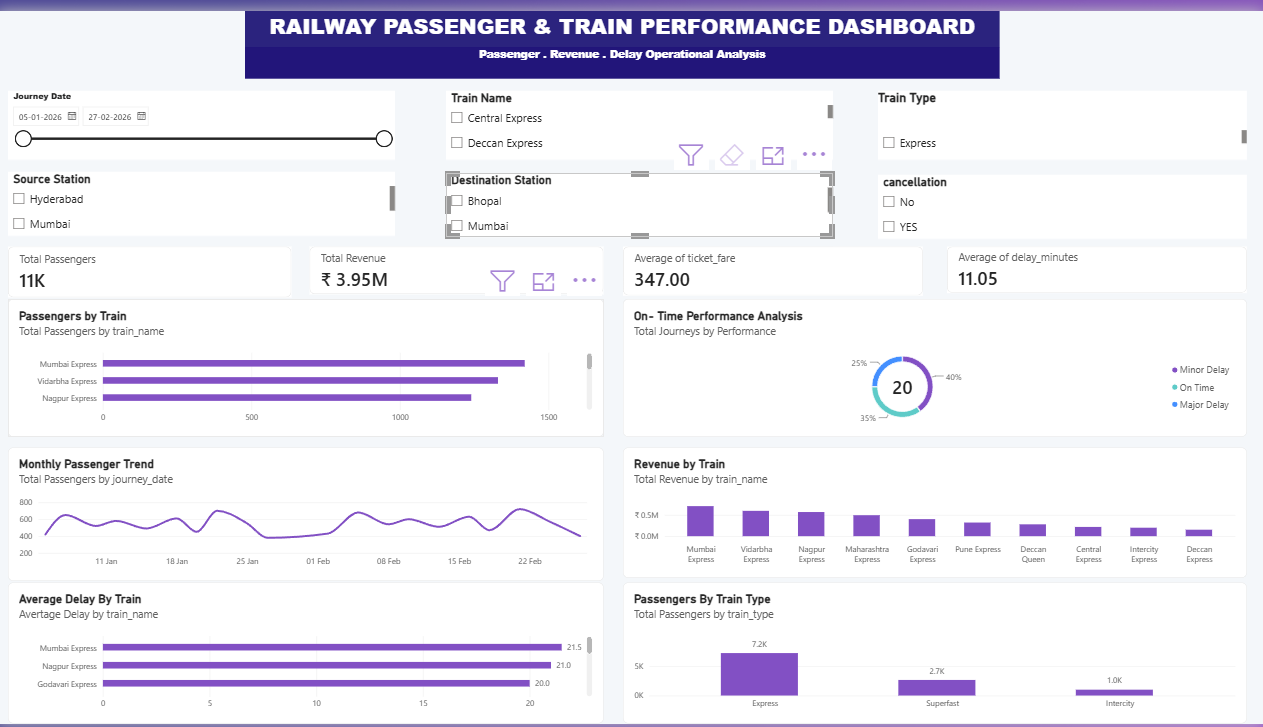

The page's visual inventory and layout, read from the dashboard file:
{"tool":"powerbi","page":{"name":"Page 1","canvas":[1920,1080],"ordinal":0},"visuals":[{"type":"cardVisual","fields":{"Data":["railway_analysis railway_data.Total Passengers"]},"box":[18.2,356.6,429.3,77.2],"z":1},{"type":"cardVisual","fields":{"Data":["Avg(railway_analysis railway_data.ticket_fare)"]},"box":[949.4,356.6,454.3,75],"z":2},{"type":"cardVisual","fields":{"Data":["Avg(railway_analysis railway_data.delay_minutes)"]},"box":[1440,356.6,454.3,70.4],"z":3},{"type":"cardVisual","fields":{"Data":["railway_analysis railway_data.Total Revenue"]},"box":[474.7,356.6,445.2,72.7],"z":4},{"type":"clusteredBarChart","title":"Passengers by Train","fields":{"Category":["railway_analysis railway_data.train_name"],"Y":["railway_analysis railway_data.Total Passengers"]},"box":[18.2,436.1,901.7,209],"z":5},{"type":"clusteredColumnChart","title":"Revenue by Train","fields":{"Category":["railway_analysis railway_data.train_name"],"Y":["railway_analysis railway_data.Total Revenue"]},"box":[949.4,661,944.9,197.6],"z":6},{"type":"lineChart","title":"Monthly Passenger Trend","fields":{"Category":["railway_analysis railway_data.journey_date"],"Y":["railway_analysis railway_data.Total Passengers"]},"box":[18.2,661,901.7,202.1],"z":7},{"type":"clusteredBarChart","title":"Average Delay By Train","fields":{"Category":["railway_analysis railway_data.train_name"],"Y":["railway_analysis railway_data.Avertage Delay"]},"box":[18.2,865.4,901.7,213.5],"z":8},{"type":"clusteredColumnChart","title":"Passengers By Train Type","fields":{"Category":["railway_analysis railway_data.train_type"],"Y":["railway_analysis railway_data.Total Passengers"]},"box":[949.4,865.4,944.9,213.5],"z":9},{"type":"donutChart","title":"On- Time Performance Analysis","fields":{"Category":["railway_analysis railway_data.Performance"],"Y":["railway_analysis railway_data.Total Journeys"]},"box":[949.4,436.1,944.9,209],"z":10},{"type":"slicer","fields":{"Values":["railway_analysis railway_data.journey_date"]},"box":[18.2,120.4,586,104.5],"z":11},{"type":"slicer","fields":{"Values":["railway_analysis railway_data.train_name"]},"box":[681.4,120.4,586,104.5],"z":12},{"type":"slicer","fields":{"Values":["railway_analysis railway_data.source_station"]},"box":[18.2,243,586,97.7],"z":13},{"type":"slicer","fields":{"Values":["railway_analysis railway_data.destination_station"]},"box":[681.4,245.3,586,97.7],"z":14},{"type":"slicer","title":"Train Type","fields":{"Values":["railway_analysis railway_data.train_type"]},"box":[1335.5,120.4,558.7,104.5],"z":15},{"type":"slicer","fields":{"Values":["railway_analysis railway_data.cancellation"]},"box":[1335.5,247.6,558.7,97.7],"z":16},{"type":"textbox","box":[377,0,1142.5,54.5],"z":17},{"type":"textbox","box":[377,54.5,1142.5,47.7],"z":18}]}

Visuals, with their boxes in screenshot pixels (x1, y1, x2, y2), scaled from the page's 1920x1080 canvas onto the 1263x727 screenshot:
cardVisual - railway_analysis railway_data.Total Passengers: left=12, top=240, right=294, bottom=292
cardVisual - Avg(railway_analysis railway_data.ticket_fare): left=625, top=240, right=923, bottom=291
cardVisual - Avg(railway_analysis railway_data.delay_minutes): left=947, top=240, right=1246, bottom=287
cardVisual - railway_analysis railway_data.Total Revenue: left=312, top=240, right=605, bottom=289
"Passengers by Train" clusteredBarChart: left=12, top=294, right=605, bottom=434
"Revenue by Train" clusteredColumnChart: left=625, top=445, right=1246, bottom=578
"Monthly Passenger Trend" lineChart: left=12, top=445, right=605, bottom=581
"Average Delay By Train" clusteredBarChart: left=12, top=583, right=605, bottom=726
"Passengers By Train Type" clusteredColumnChart: left=625, top=583, right=1246, bottom=726
"On- Time Performance Analysis" donutChart: left=625, top=294, right=1246, bottom=434
slicer - railway_analysis railway_data.journey_date: left=12, top=81, right=397, bottom=151
slicer - railway_analysis railway_data.train_name: left=448, top=81, right=834, bottom=151
slicer - railway_analysis railway_data.source_station: left=12, top=164, right=397, bottom=229
slicer - railway_analysis railway_data.destination_station: left=448, top=165, right=834, bottom=231
"Train Type" slicer: left=879, top=81, right=1246, bottom=151
slicer - railway_analysis railway_data.cancellation: left=879, top=167, right=1246, bottom=232
textbox: left=248, top=0, right=1000, bottom=37
textbox: left=248, top=37, right=1000, bottom=69
